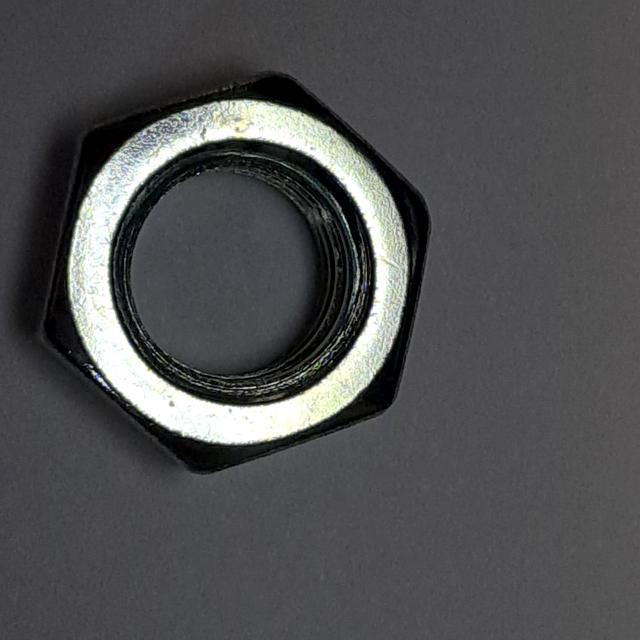Excellent: (21, 64, 444, 488)
